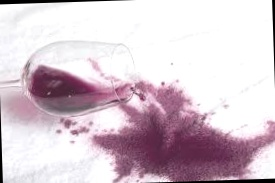wine: (111, 124, 264, 183), (94, 80, 199, 157)
